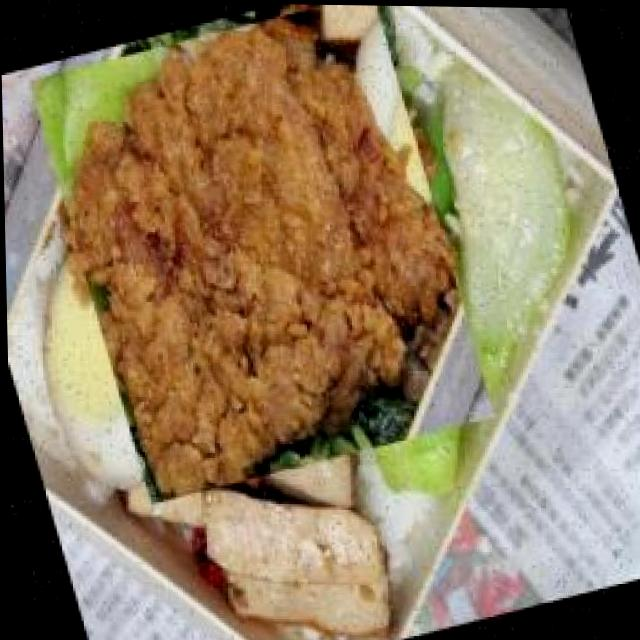fried_chicken: (27, 0, 496, 508)
